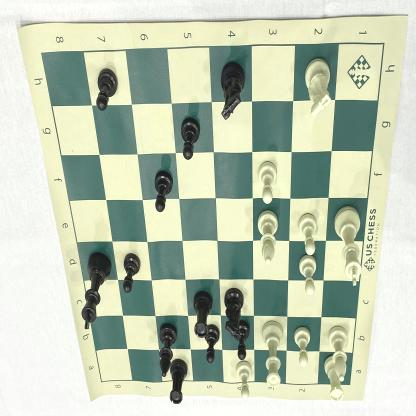black-bishop: (154, 320, 178, 380)
black-king: (78, 250, 114, 336)
black-knight: (217, 59, 249, 125), (220, 285, 247, 339)
black-pawn: (94, 64, 121, 119), (151, 167, 176, 218), (179, 114, 202, 164), (120, 251, 144, 297), (201, 322, 222, 368), (232, 318, 251, 366)
black-rook: (188, 288, 215, 340), (167, 355, 192, 409)
white-bishop: (255, 208, 280, 268), (326, 323, 350, 384)
white-king: (331, 203, 365, 289)
white-knight: (301, 55, 335, 121)
white-pawn: (256, 158, 280, 208), (296, 209, 320, 258), (296, 251, 319, 298), (292, 325, 313, 369), (234, 357, 254, 403)
white-queen: (259, 319, 285, 392)
white-rook: (321, 353, 346, 406)
